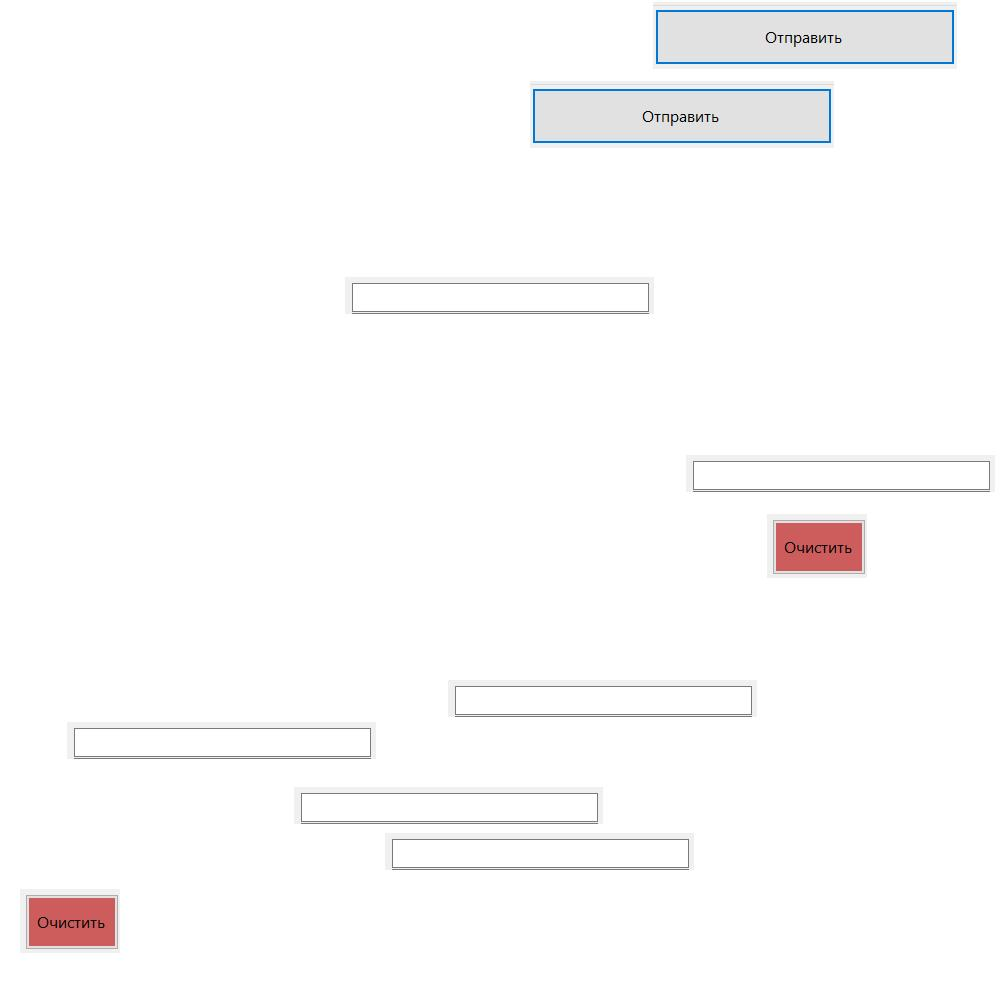Button: (530, 81, 834, 148), (653, 2, 957, 69), (20, 889, 120, 953), (767, 514, 867, 578)
EditText-: (448, 680, 757, 717), (686, 455, 995, 492), (294, 787, 603, 824), (345, 277, 654, 314), (385, 833, 694, 870), (67, 722, 376, 759)
